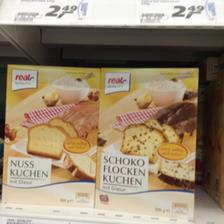Kuchen: (98, 65, 200, 223), (1, 61, 97, 210)
